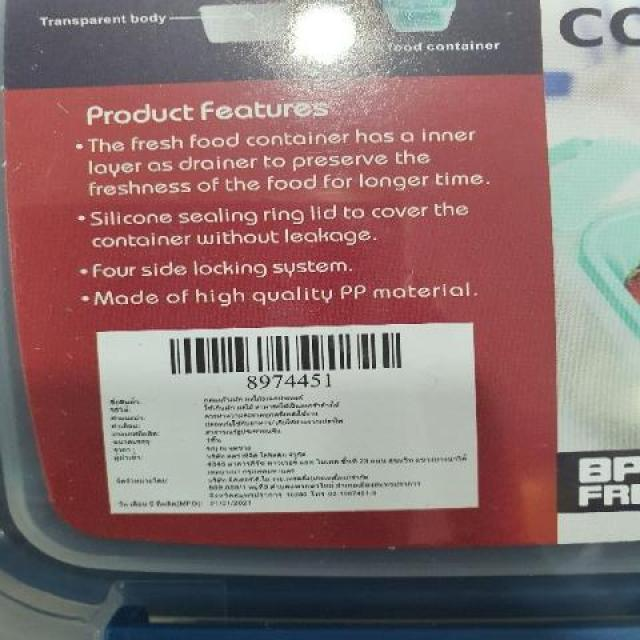Barcode: (163, 328, 417, 388)
